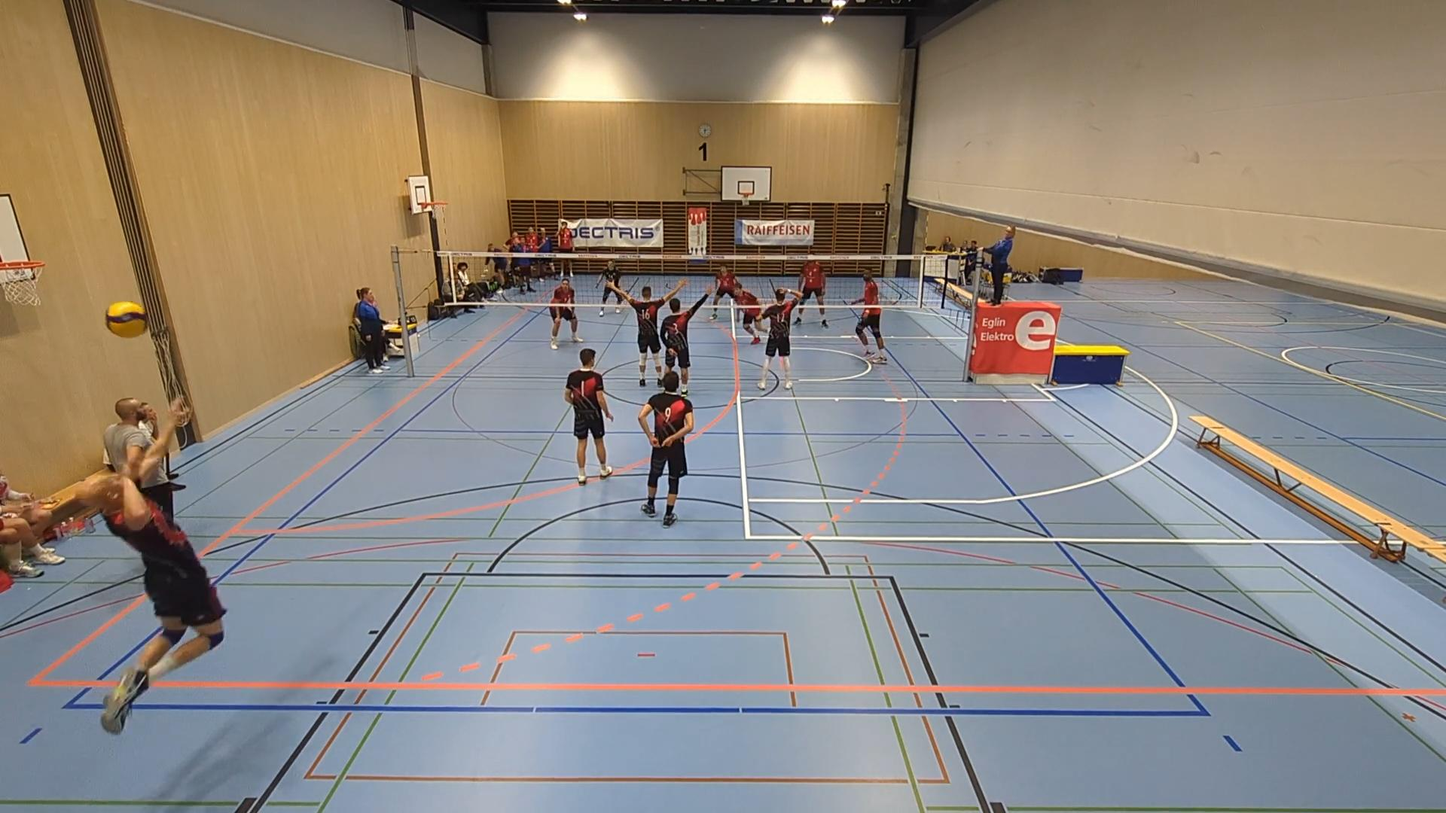battuta: (83, 390, 230, 738)
